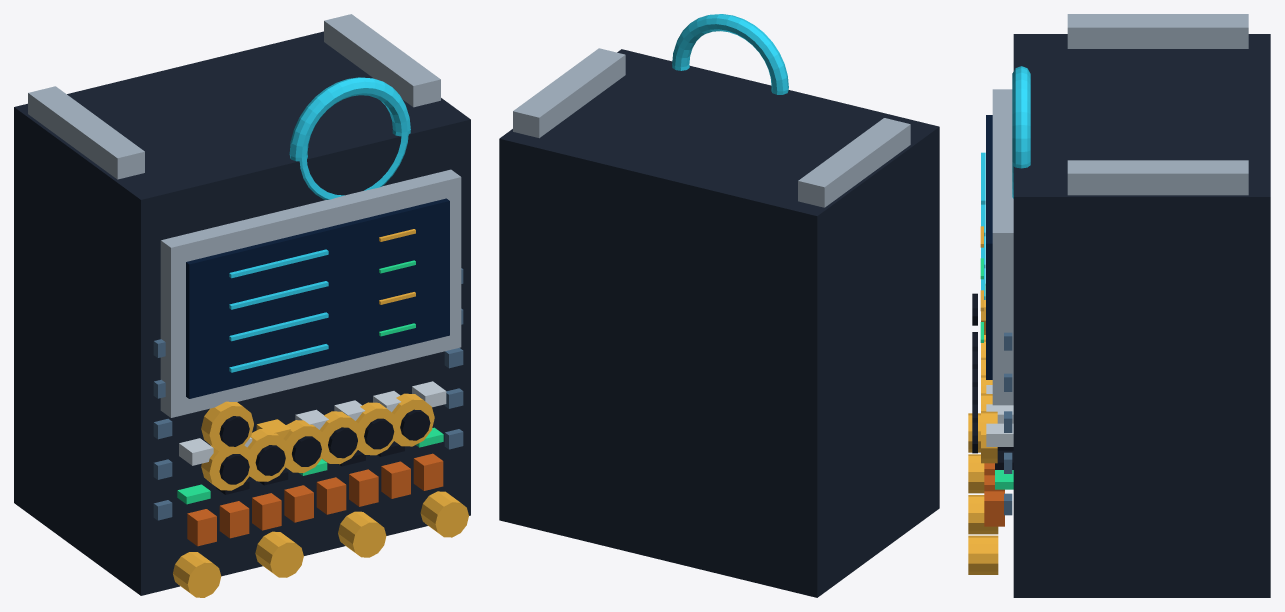
Rendered from 50_L85_ThrusterForceAllocationComputer.fbx.
3 renders of one model, left to right at view 1: azimuth 30°, elevation 25°; view 2: azimuth 150°, elevation 25°; view 3: azimuth 270°, elevation 25°, orthographic. The views are drawn at different scales.
Parts seen in each view (by area): view 1: L85_ThrusterForceAllocationComputer, L85_ThrusterForceAllocationComputer_Part_0010, L85_ThrusterForceAllocationComputer_Part_0023, L85_ThrusterForceAllocationComputer_Part_0021, L85_ThrusterForceAllocationComputer_Part_0011, L85_ThrusterForceAllocationComputer_Part_0015, L85_ThrusterForceAllocationComputer_Part_0013, L85_ThrusterForceAllocationComputer_Part_0017, L85_ThrusterForceAllocationComputer_Part_0019, L85_ThrusterForceAllocationComputer_Part_0020, L85_ThrusterForceAllocationComputer_Part_0018, L85_ThrusterForceAllocationComputer_Part_0012 (+4 smaller); view 2: L85_ThrusterForceAllocationComputer, L85_ThrusterForceAllocationComputer_Part_0010; view 3: L85_ThrusterForceAllocationComputer, L85_ThrusterForceAllocationComputer_Part_0010, L85_ThrusterForceAllocationComputer_Part_0021.
Part boxes in pixels (x1,y1,x2,y2): L85_ThrusterForceAllocationComputer: (14,14,470,597); L85_ThrusterForceAllocationComputer_Part_0010: (289,77,410,199); L85_ThrusterForceAllocationComputer_Part_0023: (201,401,253,452); L85_ThrusterForceAllocationComputer_Part_0021: (391,393,434,446); L85_ThrusterForceAllocationComputer_Part_0011: (201,444,253,490); L85_ThrusterForceAllocationComputer_Part_0015: (283,420,324,472); L85_ThrusterForceAllocationComputer_Part_0013: (247,429,289,481); L85_ThrusterForceAllocationComputer_Part_0017: (319,411,361,464); L85_ThrusterForceAllocationComputer_Part_0019: (355,402,396,455); L85_ThrusterForceAllocationComputer_Part_0020: (364,418,394,449); L85_ThrusterForceAllocationComputer_Part_0018: (328,427,357,458); L85_ThrusterForceAllocationComputer_Part_0012: (219,454,249,484); L85_ThrusterForceAllocationComputer: (499,48,939,597); L85_ThrusterForceAllocationComputer_Part_0010: (672,14,788,94); L85_ThrusterForceAllocationComputer: (968,14,1270,597); L85_ThrusterForceAllocationComputer_Part_0010: (1012,66,1030,198); L85_ThrusterForceAllocationComputer_Part_0021: (981,411,997,463).
Size of the model in its own units: 95.88 by 128 by 75.2.
